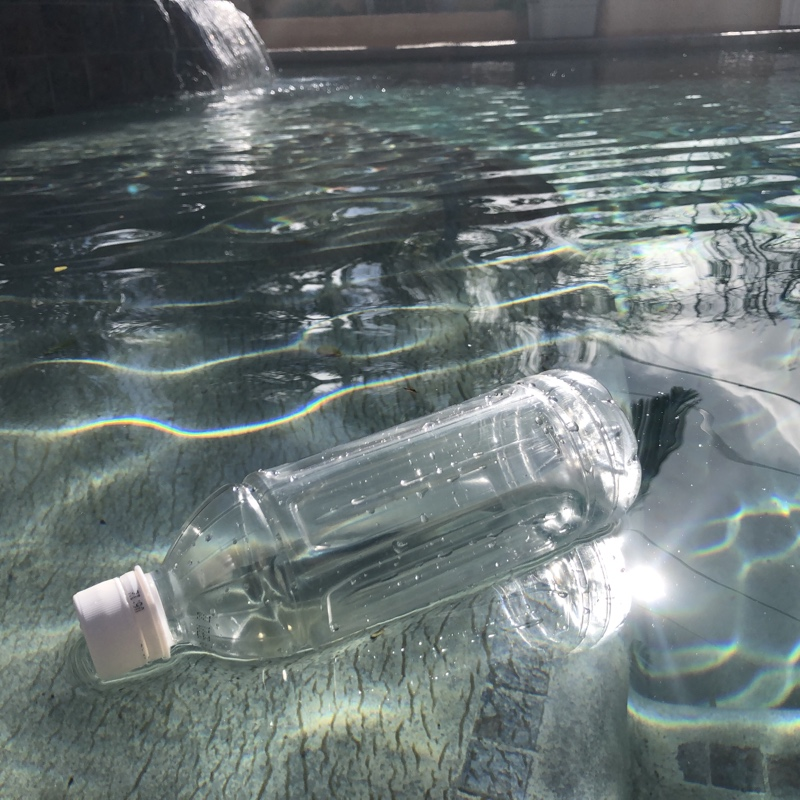Plastic Bottle: (61, 363, 647, 692)
